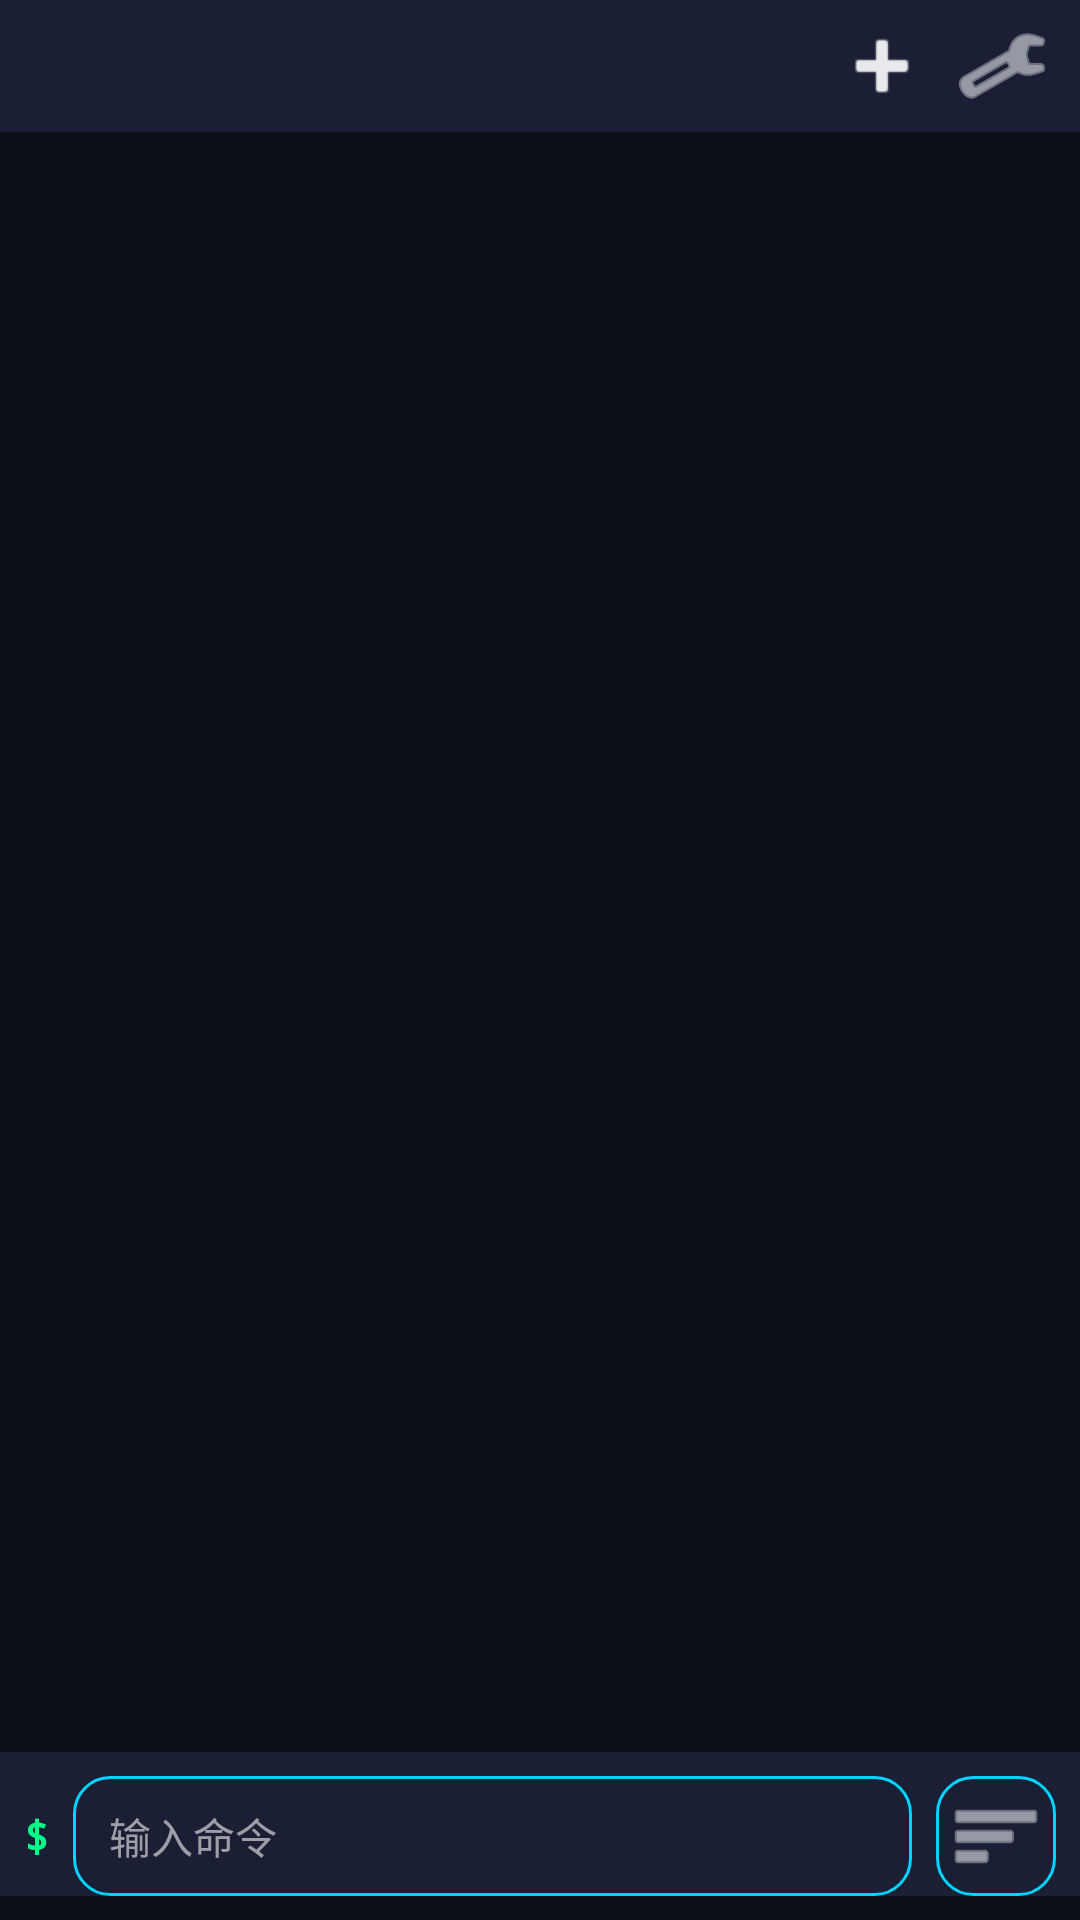

Where icons sit on this 1080 × 1920 app screen, as (x1,y1,x2,y2):
New Session: (855,39,909,93)
Settings: (959,33,1045,99)
